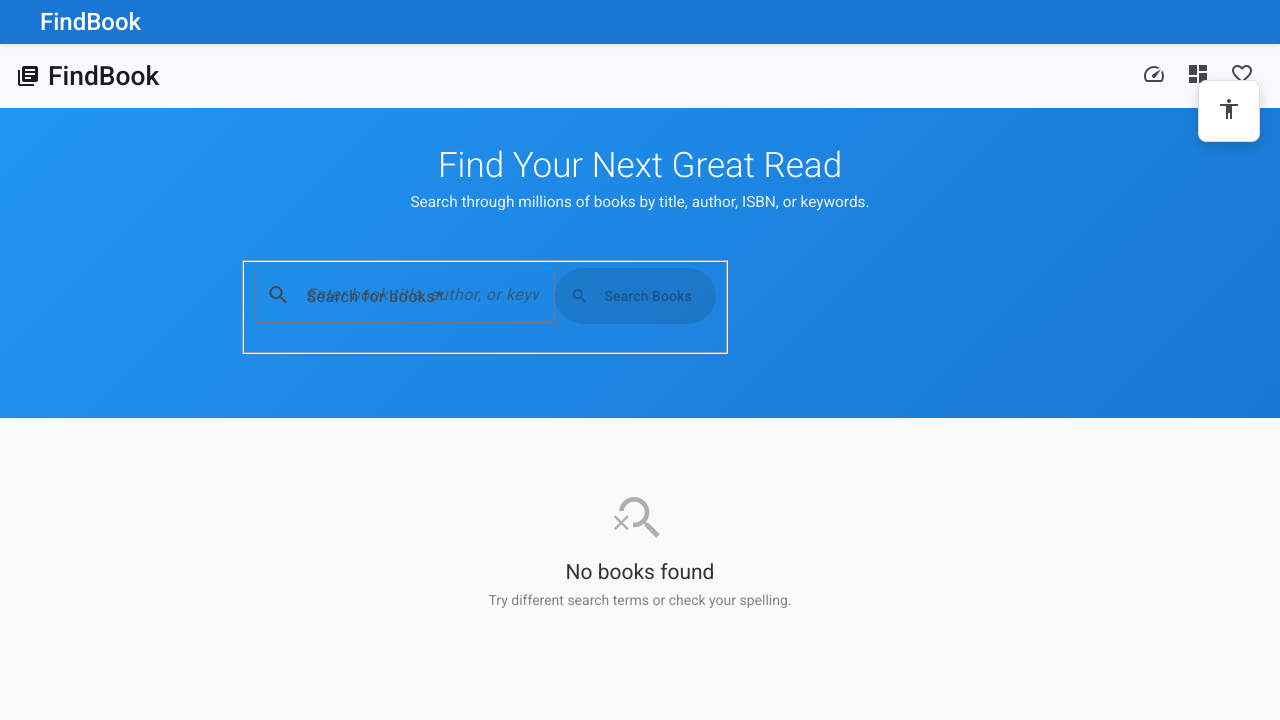
Test: Accessibility Features › Accessibility Toolbar › should open and close accessibility toolbar
# Open toolbar
Click the button named "Toggle accessibility options": (1229, 111) [1207,89,1251,133]
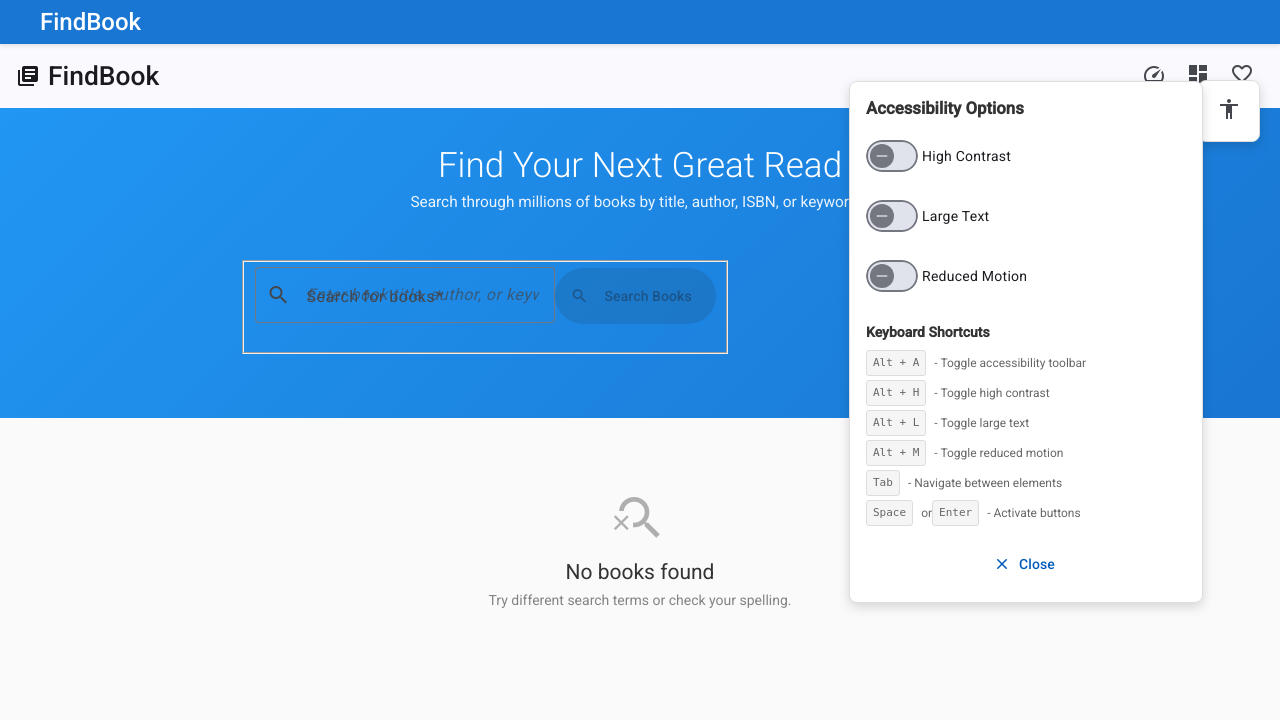
Expected: the element with class "expanded" is shown, [849,81,1203,603]
# Close toolbar
Click the button with class "close-toolbar": (1026, 564) [866,542,1186,586]
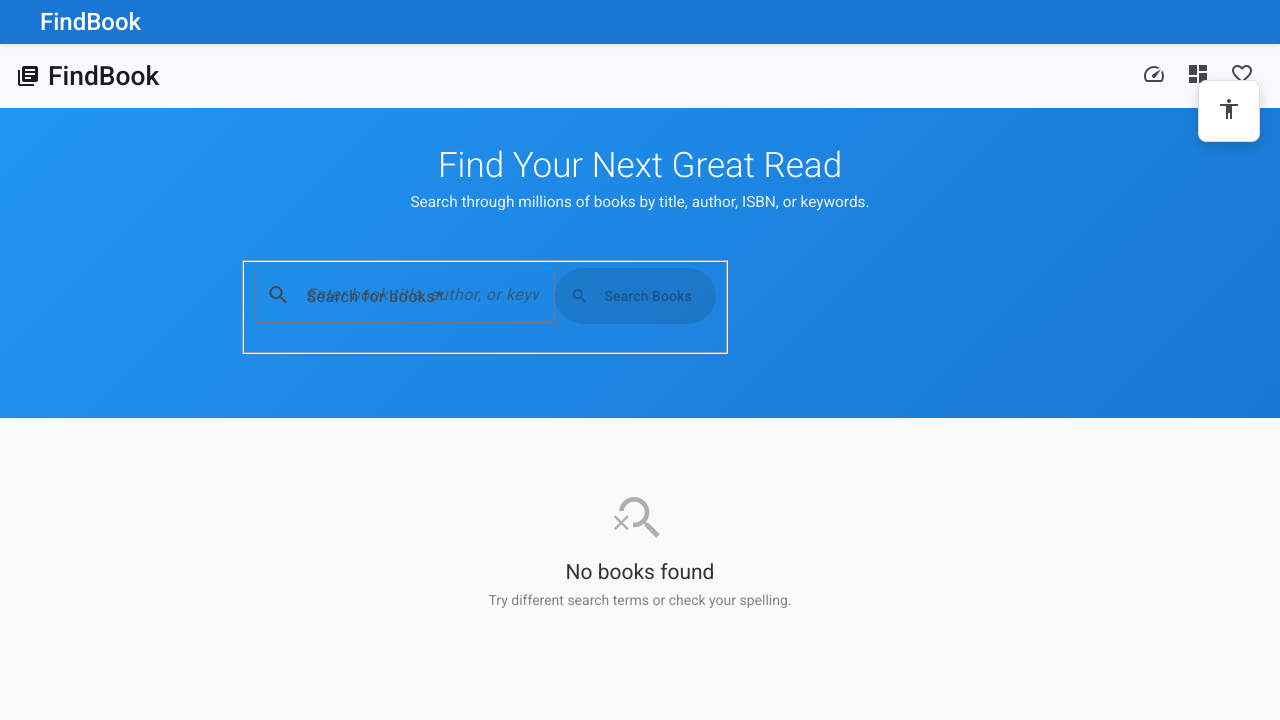
Expected: the element with class "expanded" is gone
